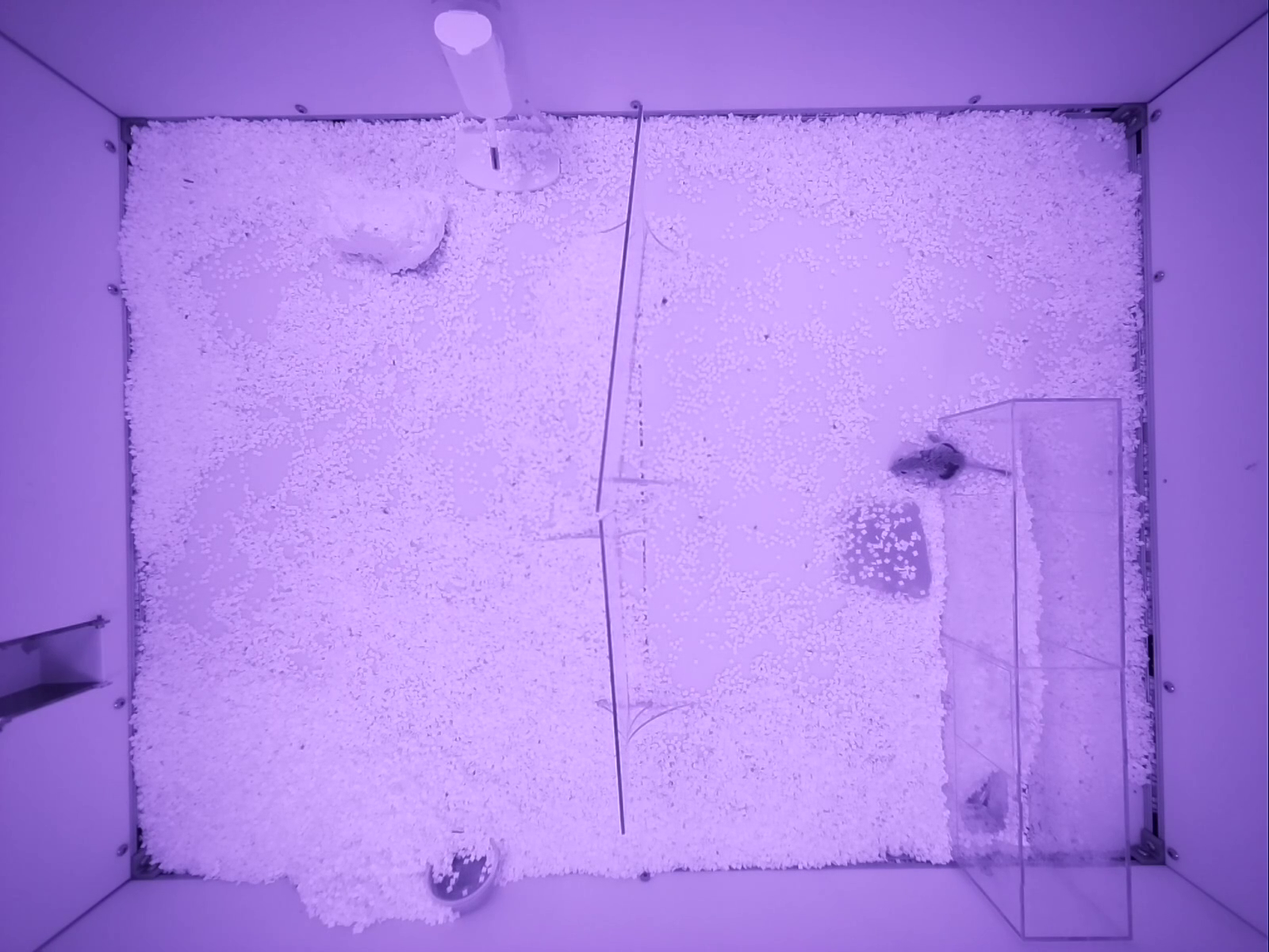adult_back: (888, 434, 1010, 485)
